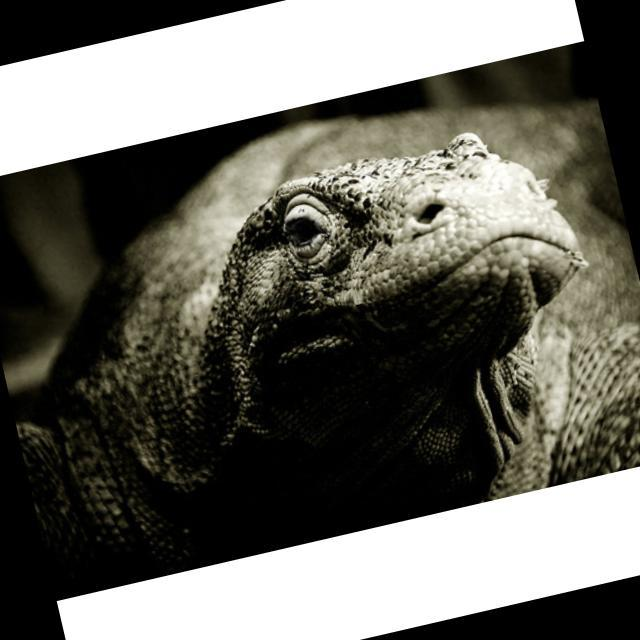KomodoDragon: (0, 51, 640, 597)
